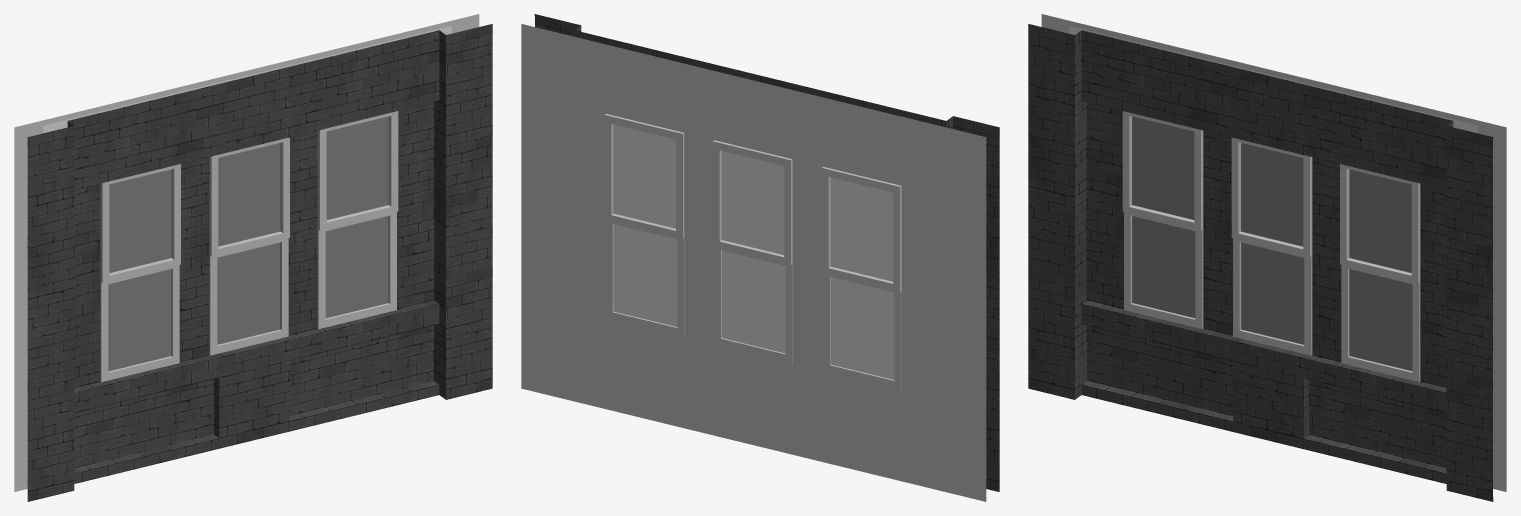
File: WornBrick_WindowTriple.gltf
3 views of the same model, side by side, from view 1: azimuth 30°, elevation 25°; view 2: azimuth 150°, elevation 25°; view 3: azimuth 330°, elevation 25° (orthographic).
Visible parts, largest first — view 1: WornBrick_WindowTriple; view 2: WornBrick_WindowTriple; view 3: WornBrick_WindowTriple.
Boxes of the visible parts, x1,y1,x2,y2 form: WornBrick_WindowTriple: (14, 14, 492, 501); WornBrick_WindowTriple: (521, 14, 999, 501); WornBrick_WindowTriple: (1028, 14, 1506, 501).
Size of what is drawn, in the model's own units: 4 by 3 by 0.2222.
